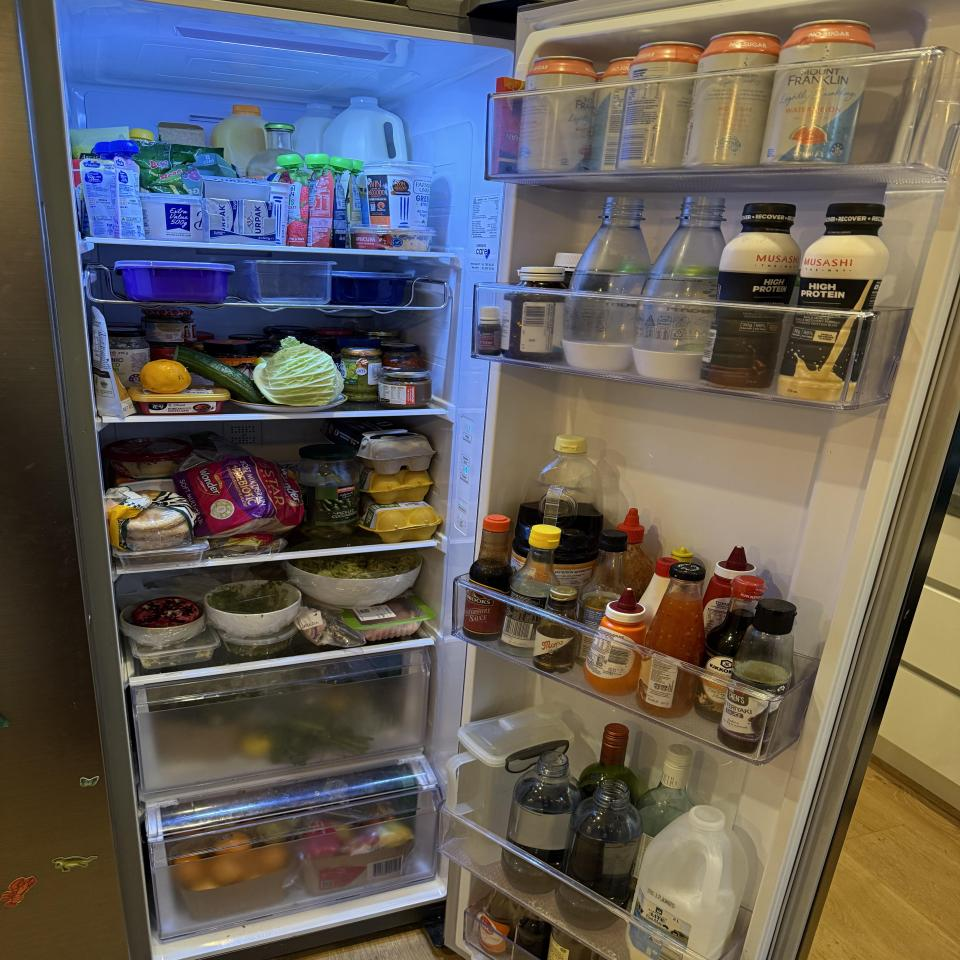Huevos: (350, 426, 435, 472), (366, 504, 441, 542), (360, 470, 434, 504)
Leche: (633, 804, 743, 960), (323, 98, 411, 161), (290, 103, 337, 156)
Limón: (139, 360, 192, 392)
Pepino: (172, 347, 262, 402)
Yogur: (361, 162, 437, 230)
orange: (177, 833, 292, 891)
